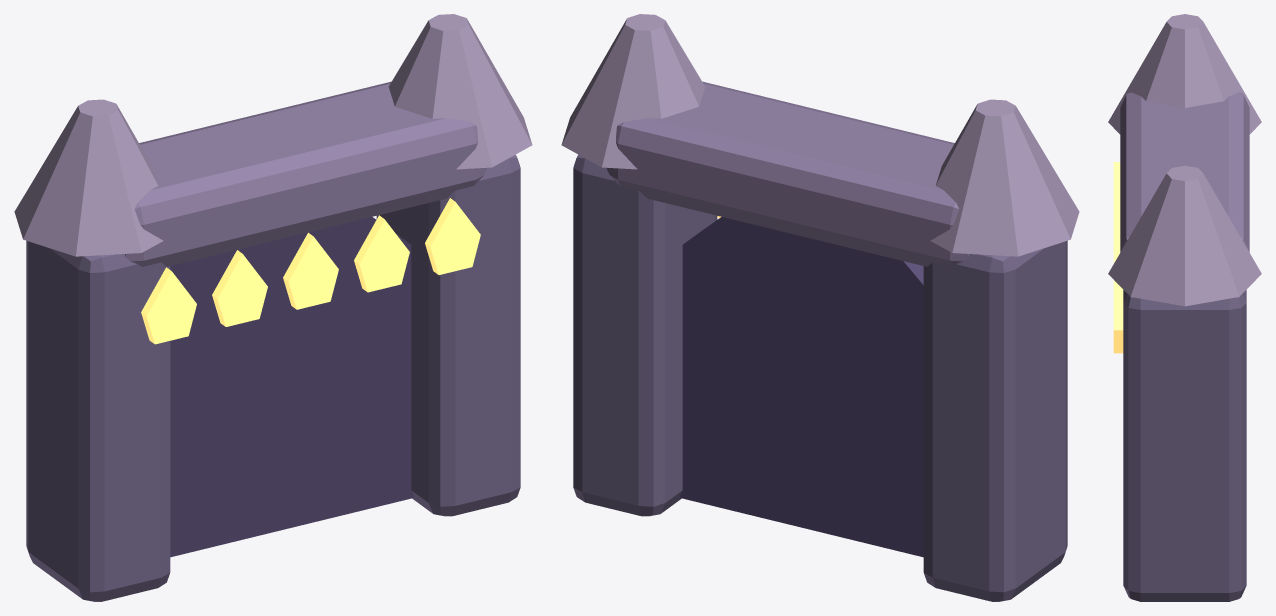
File: ember_door.glb
3 views of the same model, side by side, from view 1: azimuth 30°, elevation 25°; view 2: azimuth 150°, elevation 25°; view 3: azimuth 270°, elevation 25° (orthographic). The views are drawn at different scales.
Visible parts, largest first — view 1: Door, GatePillar.002, Lintel.001, GatePillar.003, CrownCap.002, CrownCap.003, LanternSigil_2.001, LanternSigil_0.001, LanternSigil_4.001, LanternSigil_3.001, LanternSigil_1.001; view 2: Door, GatePillar.002, Lintel.001, GatePillar.003, CrownCap.002, CrownCap.003; view 3: GatePillar.003, CrownCap.003, Lintel.001, CrownCap.002, LanternSigil_4.001, LanternSigil_1.001, LanternSigil_0.001, LanternSigil_2.001.
Boxes of the visible parts, x1,y1,x2,y2 form: Door: (170,217,413,557); GatePillar.002: (26,240,170,601); Lintel.001: (125,81,486,266); GatePillar.003: (376,154,520,516); CrownCap.002: (14,99,163,256); CrownCap.003: (388,14,532,169); LanternSigil_2.001: (283,232,338,309); LanternSigil_0.001: (141,267,196,344); LanternSigil_4.001: (425,198,480,274); LanternSigil_3.001: (354,215,409,292); LanternSigil_1.001: (212,250,267,326); Door: (680,217,923,557); GatePillar.002: (923,240,1067,601); Lintel.001: (607,81,968,266); GatePillar.003: (573,154,717,516); CrownCap.002: (930,99,1079,256); CrownCap.003: (561,14,705,169); GatePillar.003: (1123,290,1246,601); CrownCap.003: (1108,165,1261,306); Lintel.001: (1120,92,1249,252); CrownCap.002: (1108,14,1261,134); LanternSigil_4.001: (1113,284,1123,353); LanternSigil_1.001: (1113,192,1120,223); LanternSigil_0.001: (1113,162,1120,192); LanternSigil_2.001: (1113,223,1120,253).
Size of the model in its own units: 8.33 by 7.45 by 2.5.
